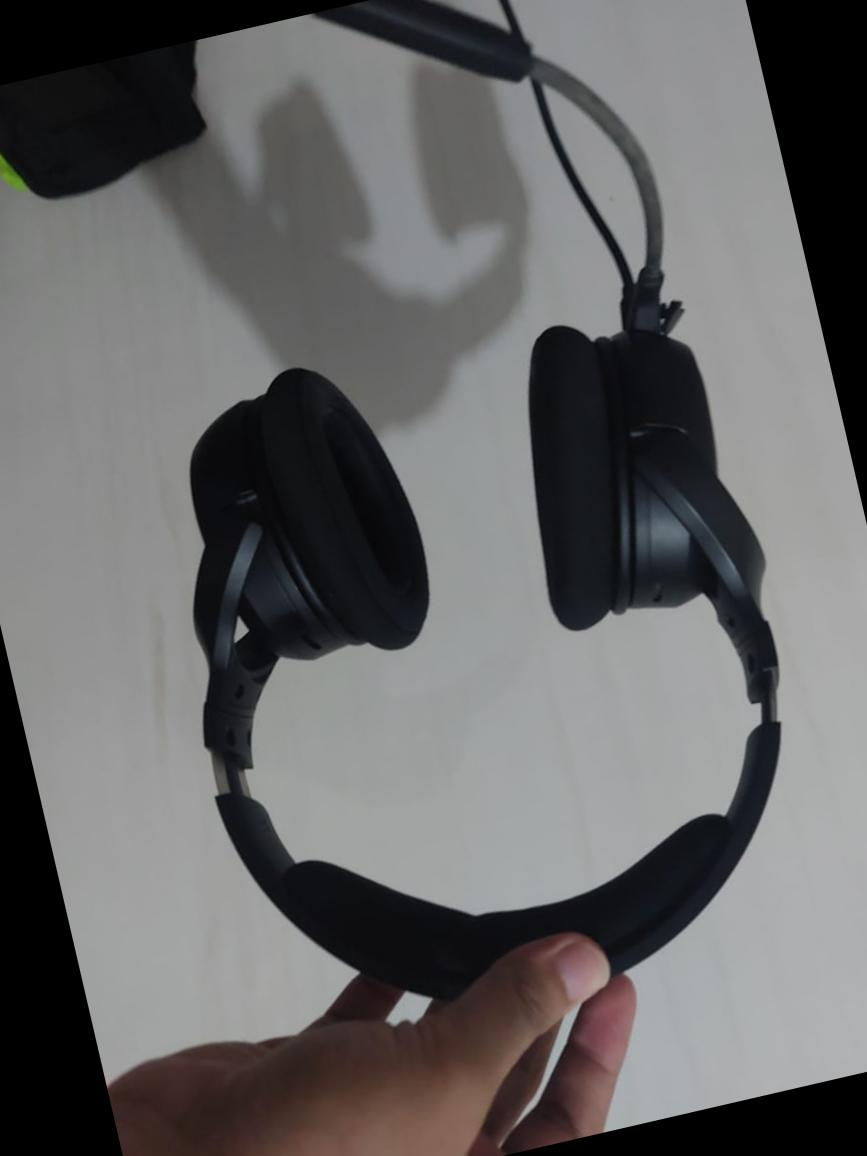Headset: (31, 0, 866, 1071)
